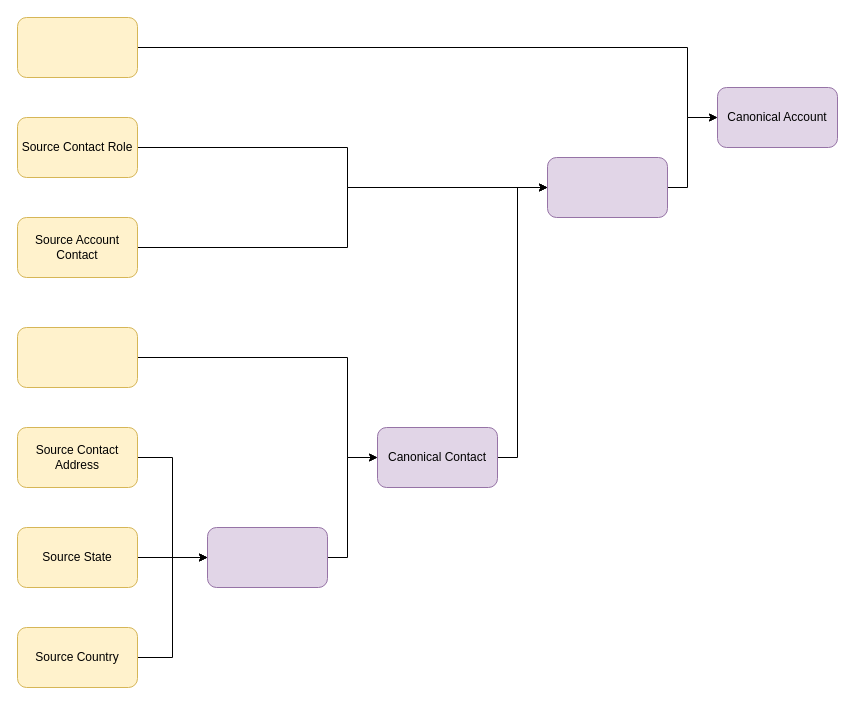
Some shapes in this 855 by 705 pixel diagram are drawn without their labels. The shapes that lost their labels are listed below. From the top down, each one's centre as x and y in pixels, then its label:
At (77,47): "Source Account".
At (607,187): "Canonical Account Contact".
At (77,357): "Source Contact".
At (267,557): "Canonical Contact Address".
